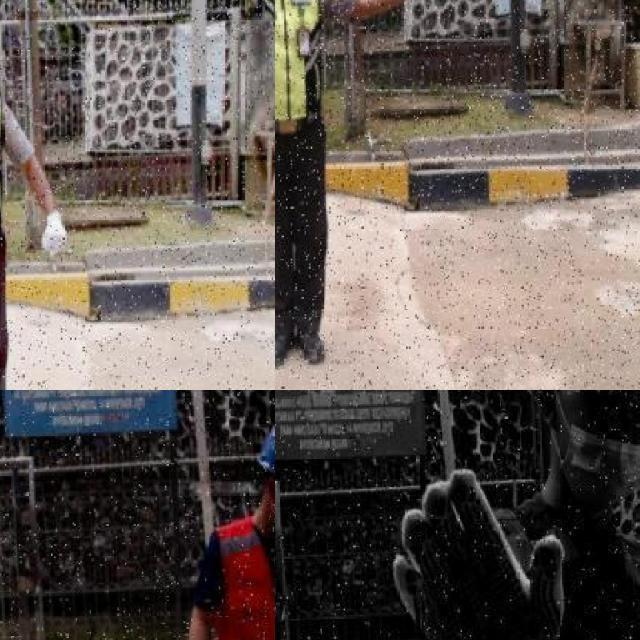apron: (386, 460, 569, 640), (41, 210, 69, 258)
